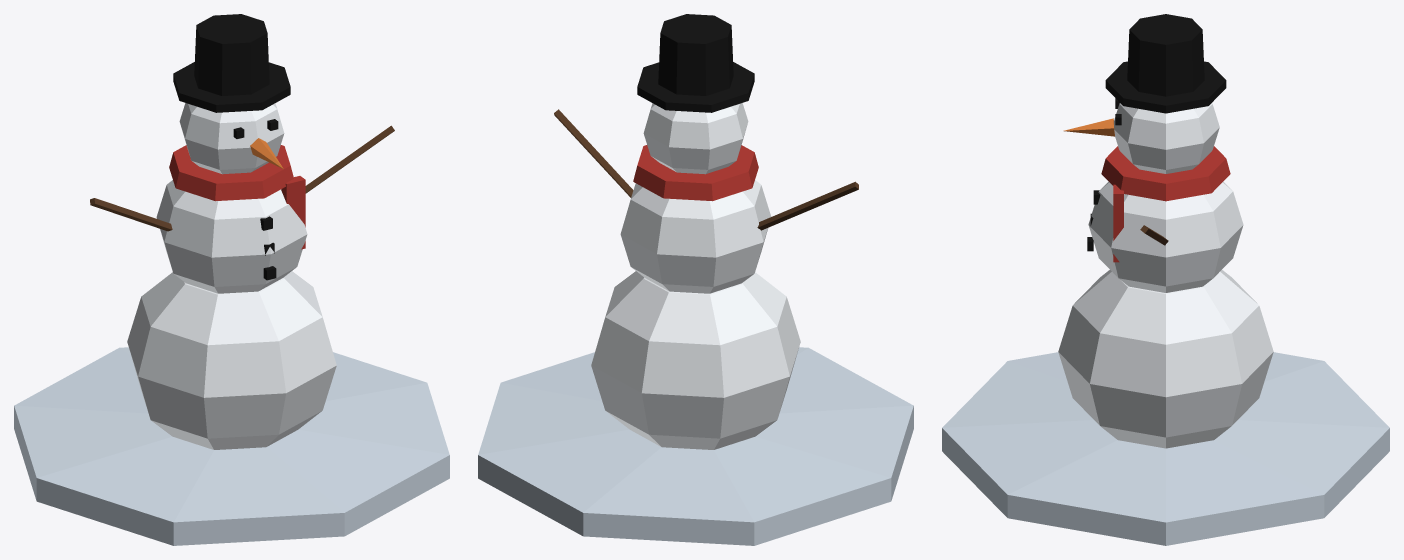
Rendered from cover_snowman.glb.
The picture shows the model from 3 angles, left to right: view 1: azimuth 30°, elevation 25°; view 2: azimuth 150°, elevation 25°; view 3: azimuth 270°, elevation 25°; orthographic projection.
Visible parts, largest first — view 1: nature_winter_snowman; view 2: nature_winter_snowman; view 3: nature_winter_snowman.
Boxes of the visible parts, x1,y1,x2,y2 form: nature_winter_snowman: [14, 14, 449, 545]; nature_winter_snowman: [478, 14, 913, 545]; nature_winter_snowman: [942, 14, 1389, 545].
Bounding box in the file's own units: 2.08 × 2.22 × 2.08.
